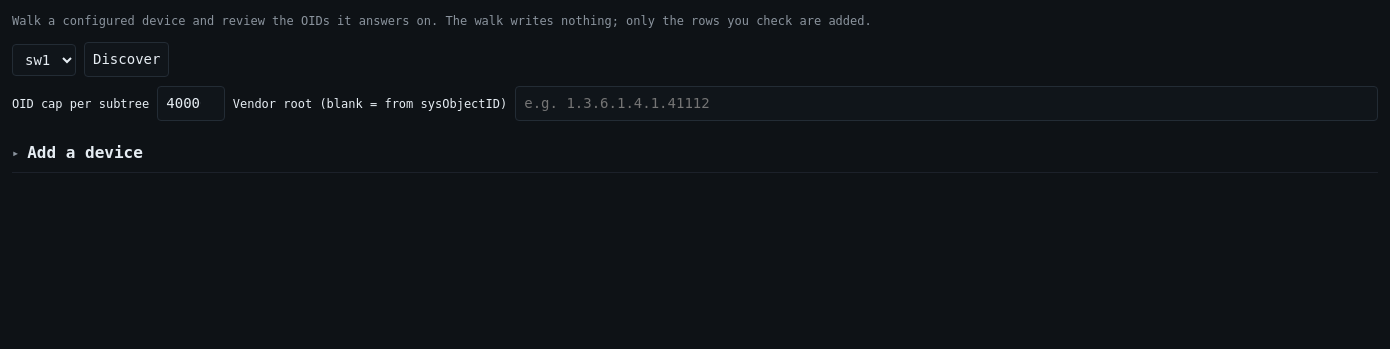
Test: fails closed: with no readOnly prop the apply is locked
Click the button "Discover": click(127, 60) [84,42,169,77]
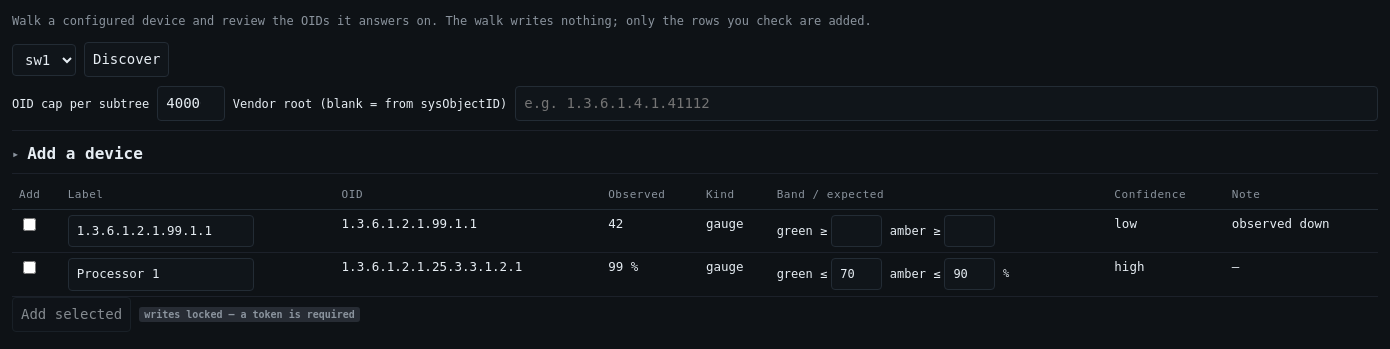
Now the button "Add selected" is disabled, box [12,297,131,332]
